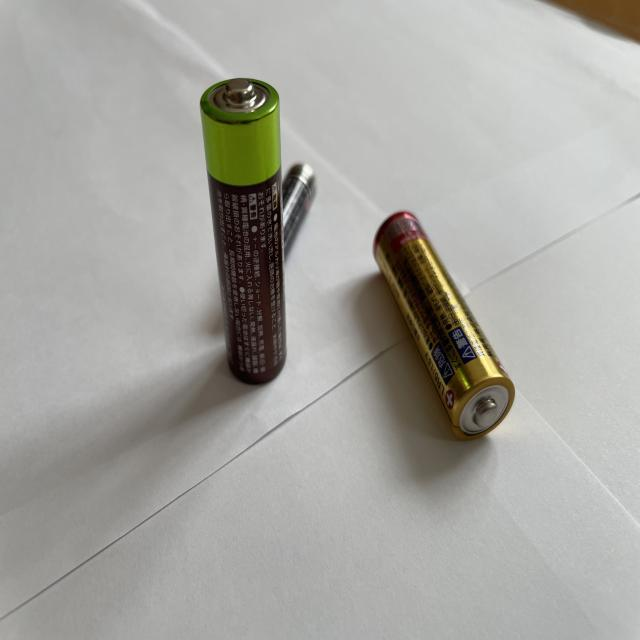hazardous waste: (376, 209, 517, 442), (200, 77, 288, 386), (254, 158, 316, 262)
